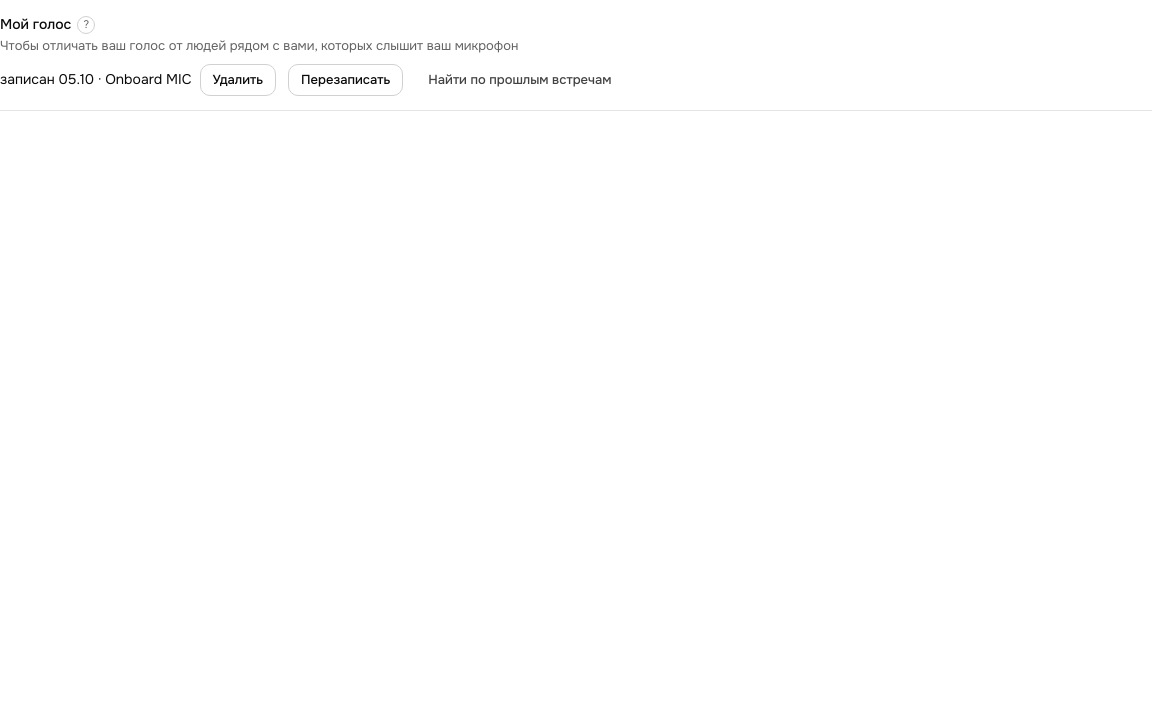
Test: настройки: записанный образец удаляется после подтверждения
Click the button with aria-label "Удалить образец: записан 05.10 · Onboard MIC". click: [238, 80]
box: x1=200 y1=64 x2=276 y2=96
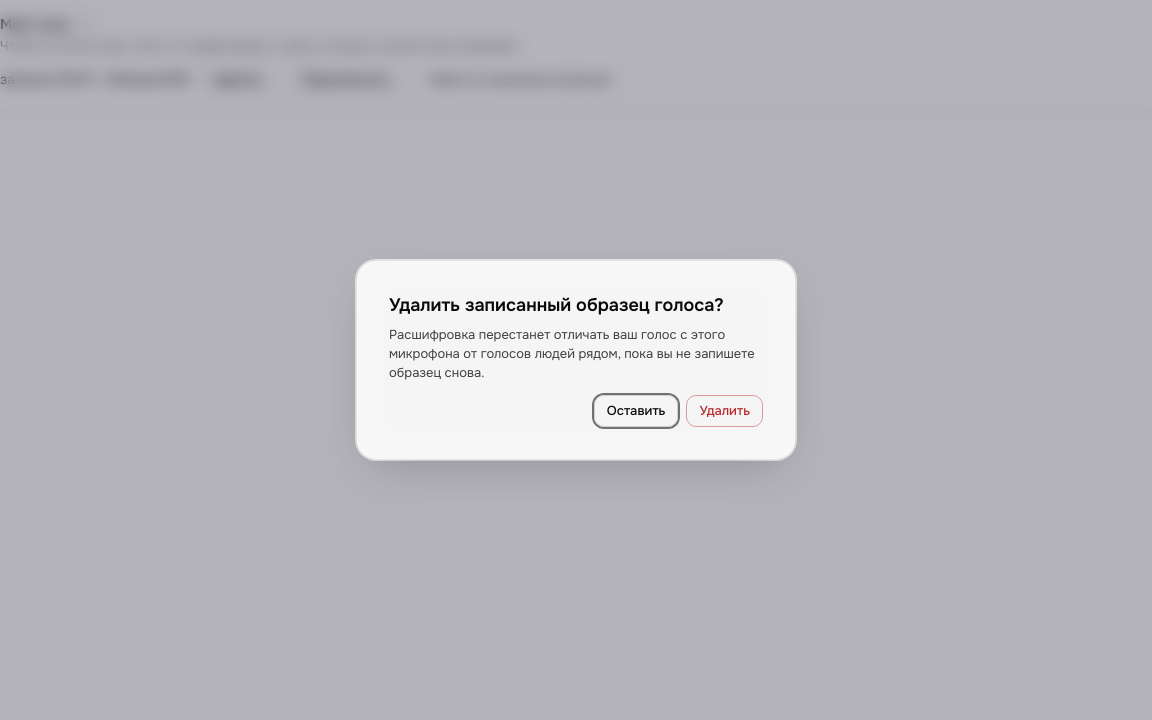
Click the button "Оставить". click: [636, 411]
box: x1=594 y1=395 x2=678 y2=427
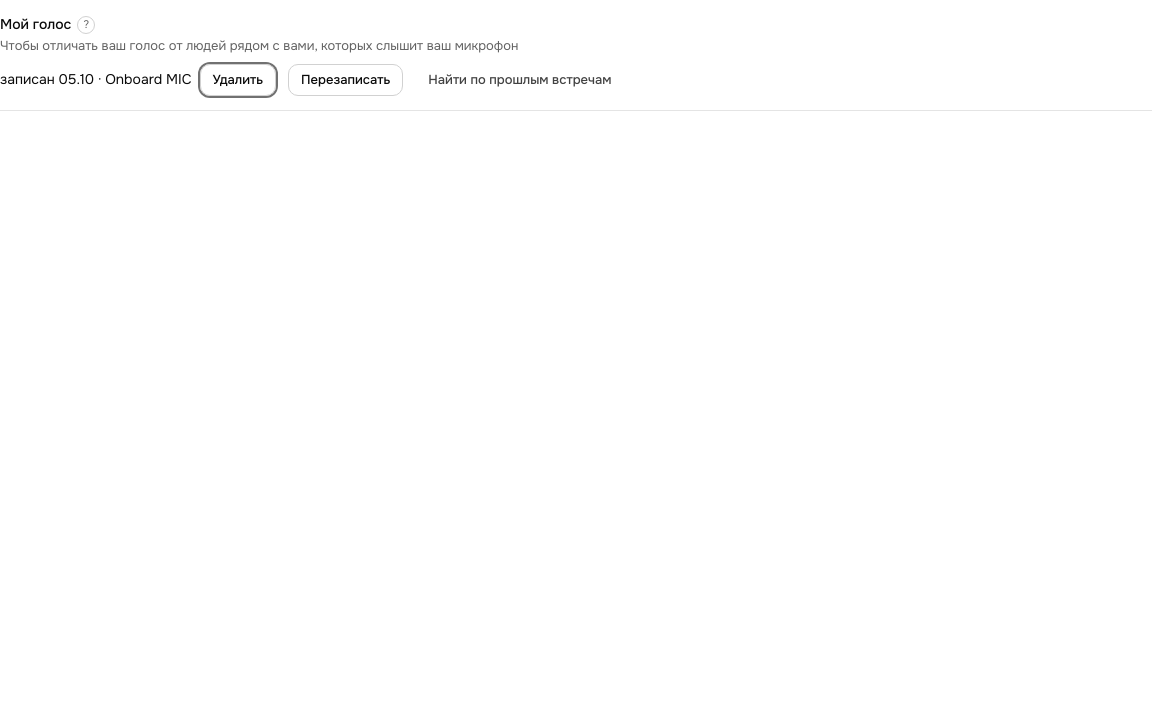
Click the button with aria-label "Удалить образец: записан 05.10 · Onboard MIC". click: [238, 80]
box: x1=200 y1=64 x2=276 y2=96
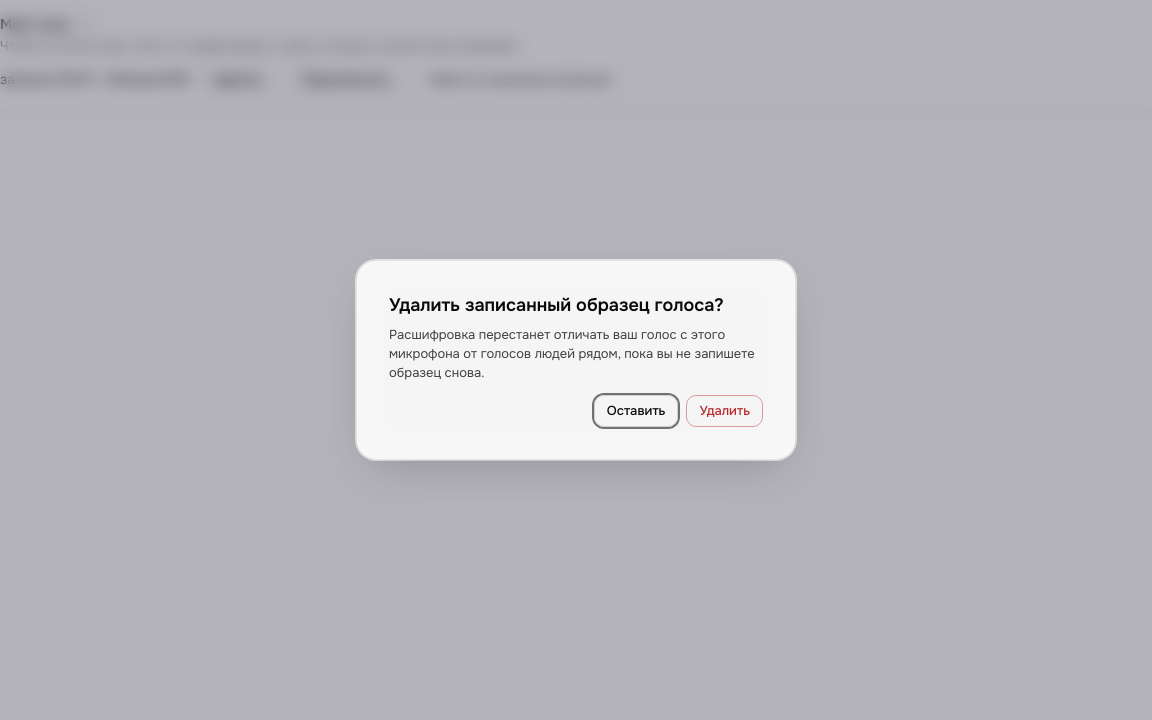
Click the button "Удалить". click: [725, 411]
box: x1=686 y1=395 x2=763 y2=427
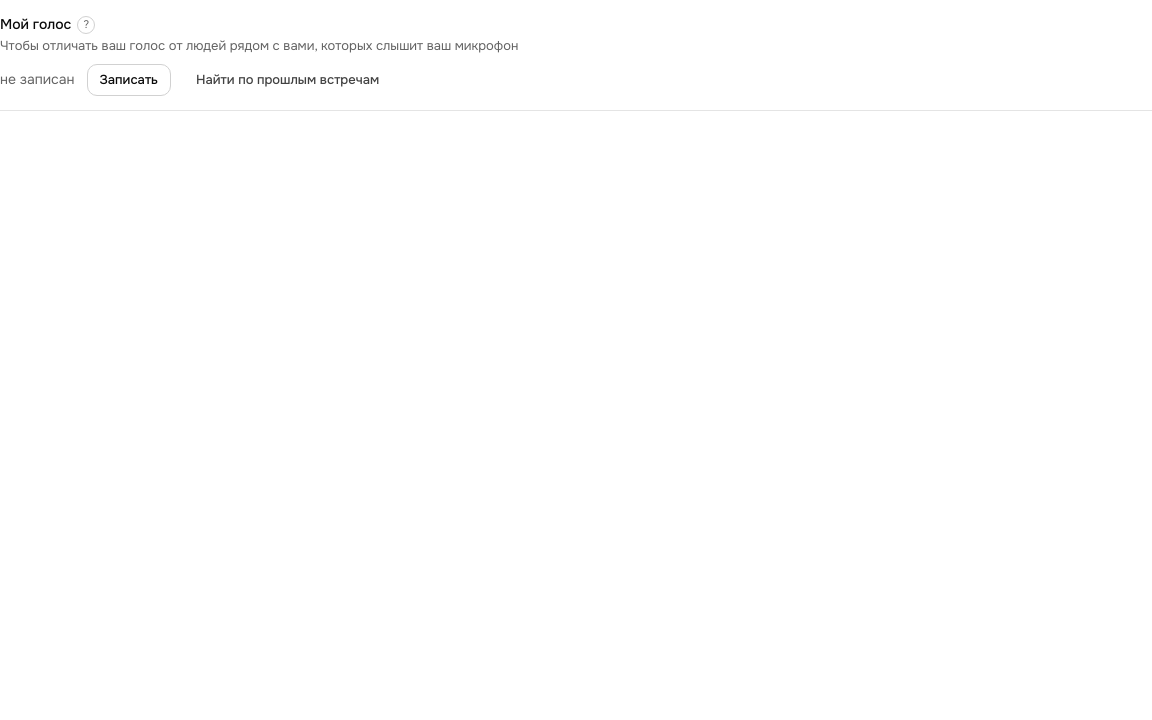
Result: the text "не записан" is shown at x1=0 y1=69 x2=74 y2=90
